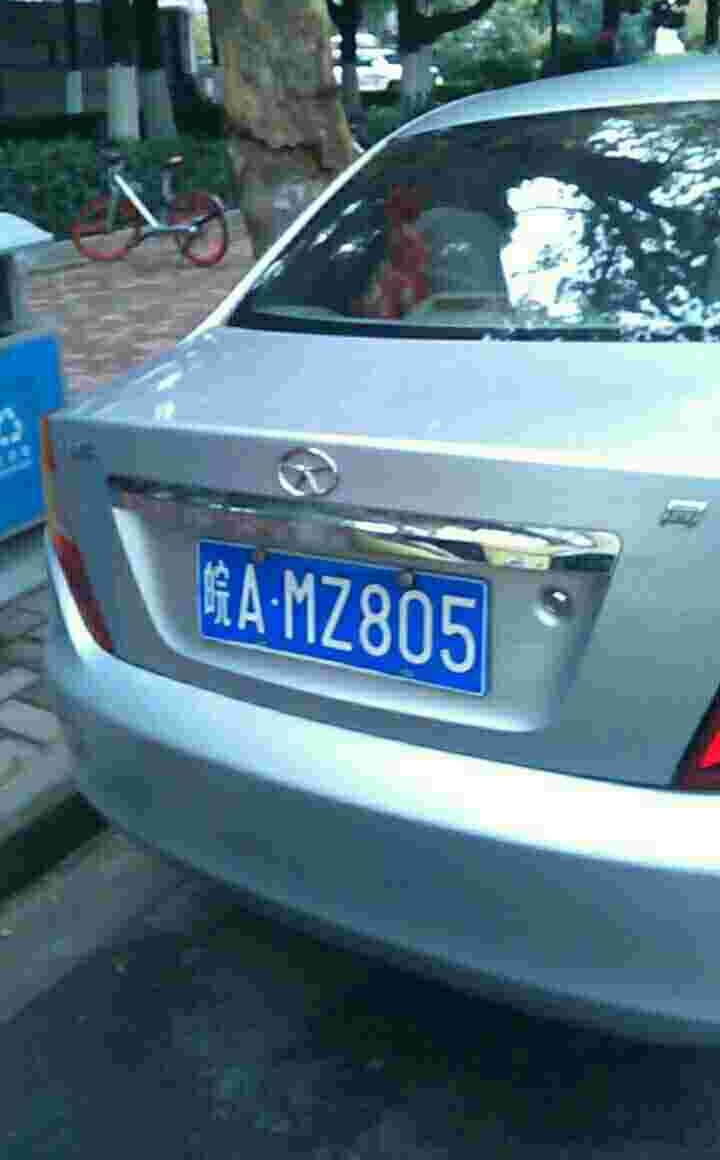license_plate: (201, 533, 482, 697)
